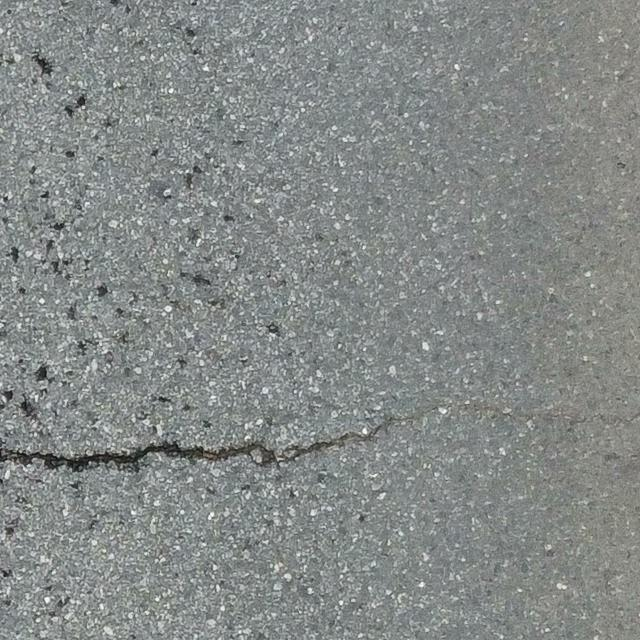TransverseCrack: (1, 416, 418, 472)
